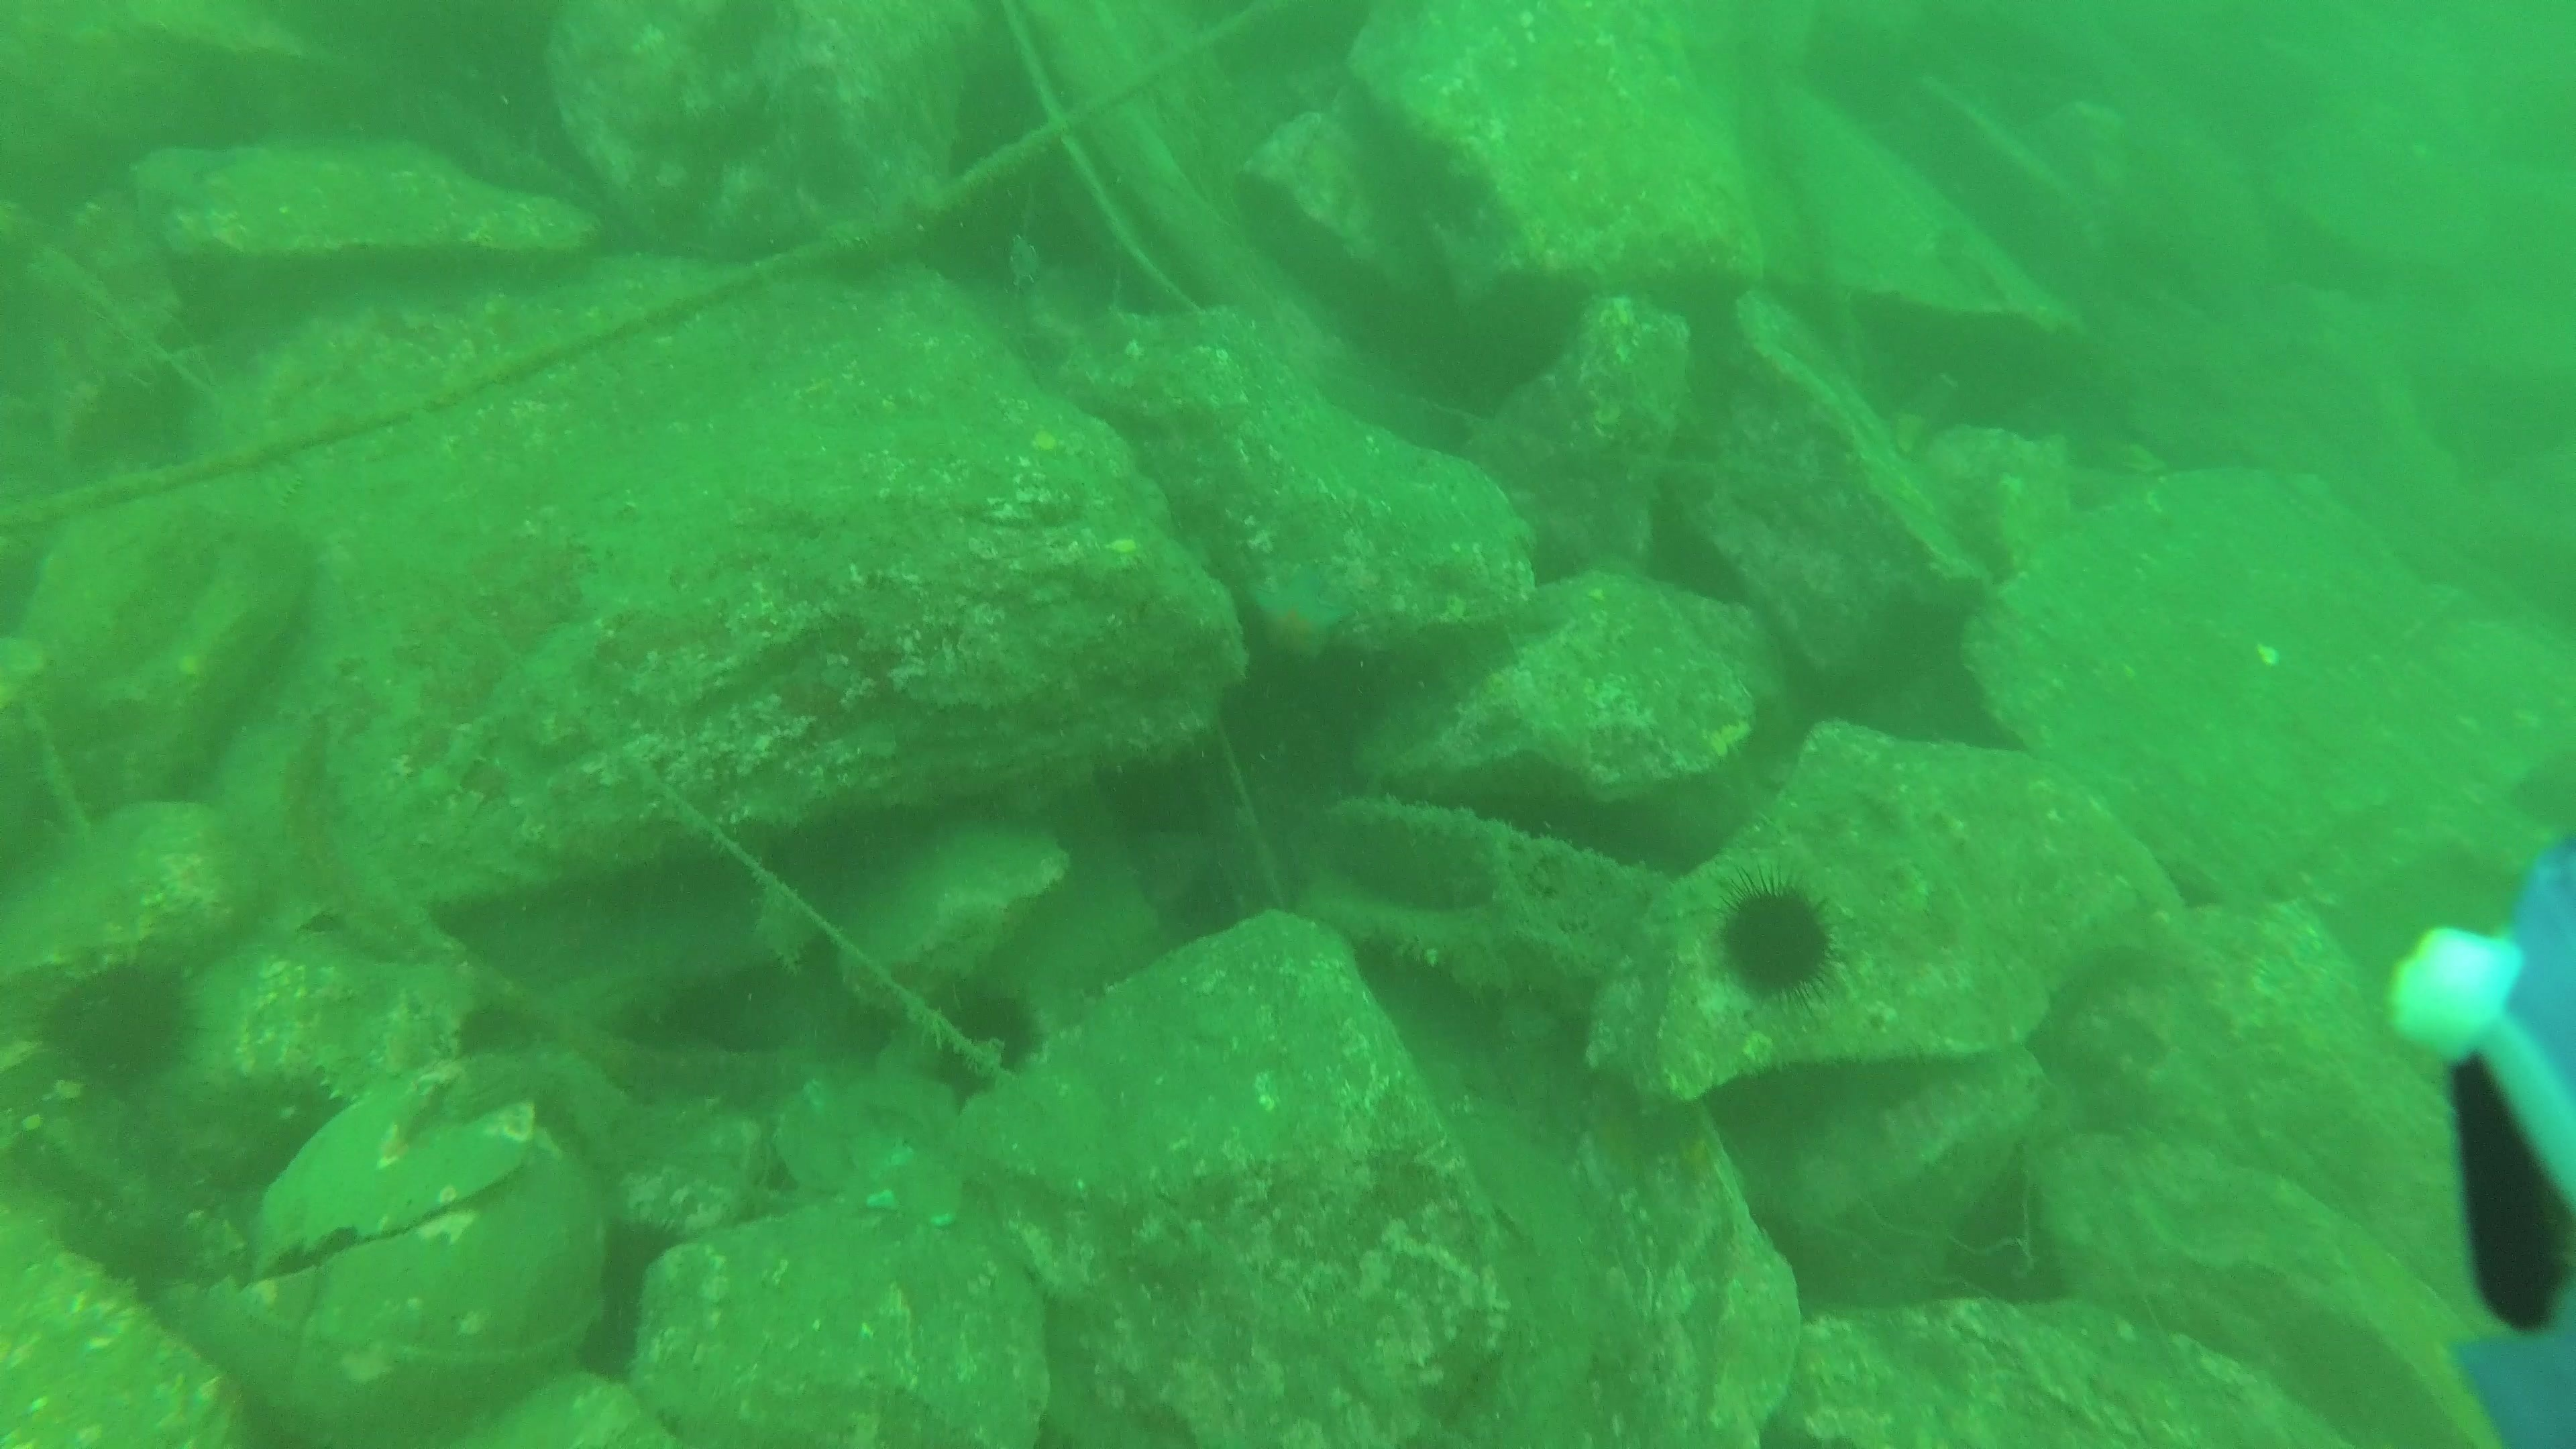echinus: (34, 961, 203, 1095), (1707, 867, 1849, 1016), (924, 978, 1046, 1106)
starfish: (1237, 556, 1353, 676)
